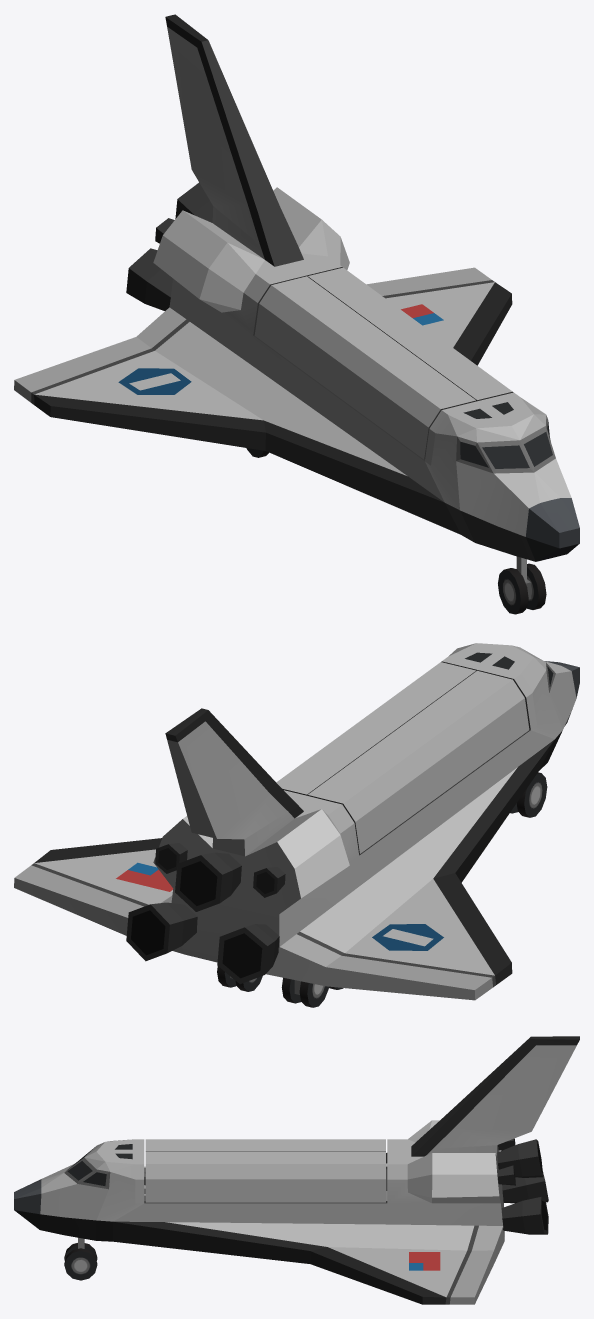
File: SM_Veh_Shuttle_01.fbx
The picture shows the model from 3 angles, top to bottom: view 1: azimuth 30°, elevation 25°; view 2: azimuth 150°, elevation 25°; view 3: azimuth 270°, elevation 25°; orthographic projection. The views are drawn at different scales.
Parts seen in each view (by area): view 1: SM_Veh_Shuttle_01, SM_Veh_Shuttle_Door_02, SM_Veh_Shuttle_Door_01, SM_Veh_Shuttle_Wheel_01; view 2: SM_Veh_Shuttle_01, SM_Veh_Shuttle_Door_02, SM_Veh_Shuttle_Door_01, SM_Veh_Shuttle_Wheel_02, SM_Veh_Shuttle_Wheel_01; view 3: SM_Veh_Shuttle_01, SM_Veh_Shuttle_Door_01, SM_Veh_Shuttle_Door_02, SM_Veh_Shuttle_Wheel_01.
Part boxes in pixels (x1,y1,x2,y2): SM_Veh_Shuttle_01: [14, 14, 579, 561]; SM_Veh_Shuttle_Door_02: [254, 276, 476, 459]; SM_Veh_Shuttle_Door_01: [307, 267, 513, 401]; SM_Veh_Shuttle_Wheel_01: [498, 556, 546, 614]; SM_Veh_Shuttle_01: [14, 643, 579, 1000]; SM_Veh_Shuttle_Door_02: [307, 670, 529, 853]; SM_Veh_Shuttle_Door_01: [276, 662, 476, 795]; SM_Veh_Shuttle_Wheel_02: [217, 966, 343, 1007]; SM_Veh_Shuttle_Wheel_01: [510, 772, 547, 817]; SM_Veh_Shuttle_01: [14, 1036, 579, 1304]; SM_Veh_Shuttle_Door_01: [145, 1151, 385, 1202]; SM_Veh_Shuttle_Door_02: [145, 1139, 385, 1151]; SM_Veh_Shuttle_Wheel_01: [64, 1237, 97, 1280].
Bounding box in the file's own units: 12.94 × 9.01 × 19.37.
